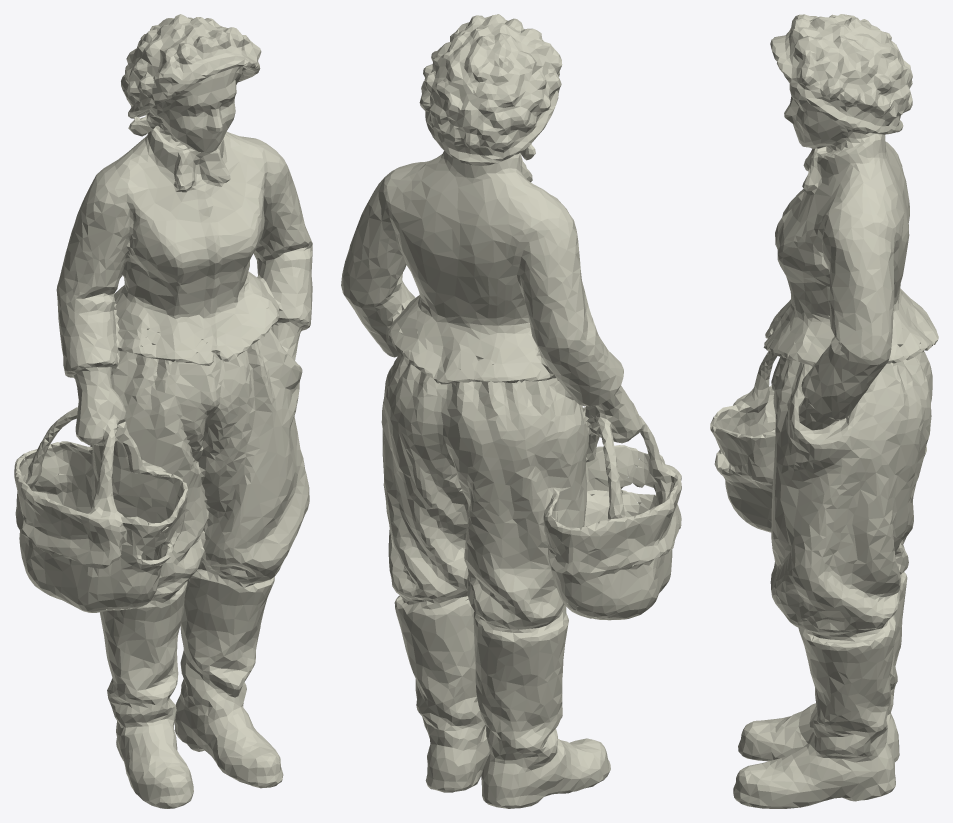
File: Visservrouwkleur.glb
3 renders of one model, left to right at view 1: azimuth 30°, elevation 25°; view 2: azimuth 150°, elevation 25°; view 3: azimuth 270°, elevation 25°, orthographic. The views are drawn at different scales.
Parts seen in each view (by area): view 1: Visservrouw; view 2: Visservrouw; view 3: Visservrouw.
Part boxes in pixels (bbox=[...]): Visservrouw: bbox=[14, 14, 312, 808]; Visservrouw: bbox=[341, 14, 681, 808]; Visservrouw: bbox=[710, 14, 938, 808].
Bounding box in the file's own units: 0.83 × 1.96 × 0.5299.
1 material, 1 textured.
